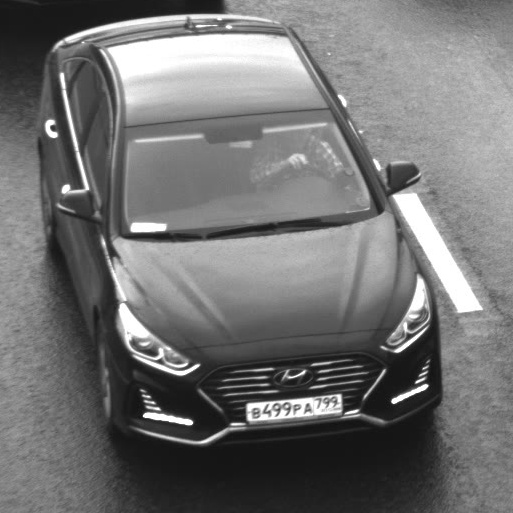plate: (233, 385, 352, 430)
